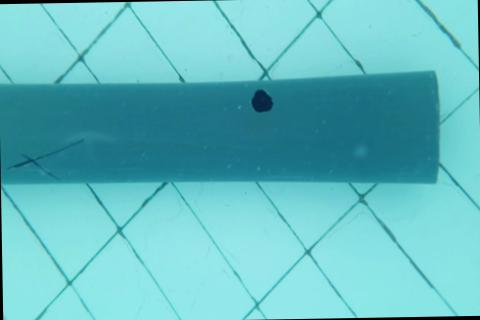kebocoran: (249, 86, 273, 115)
keretakan: (7, 137, 86, 180)
